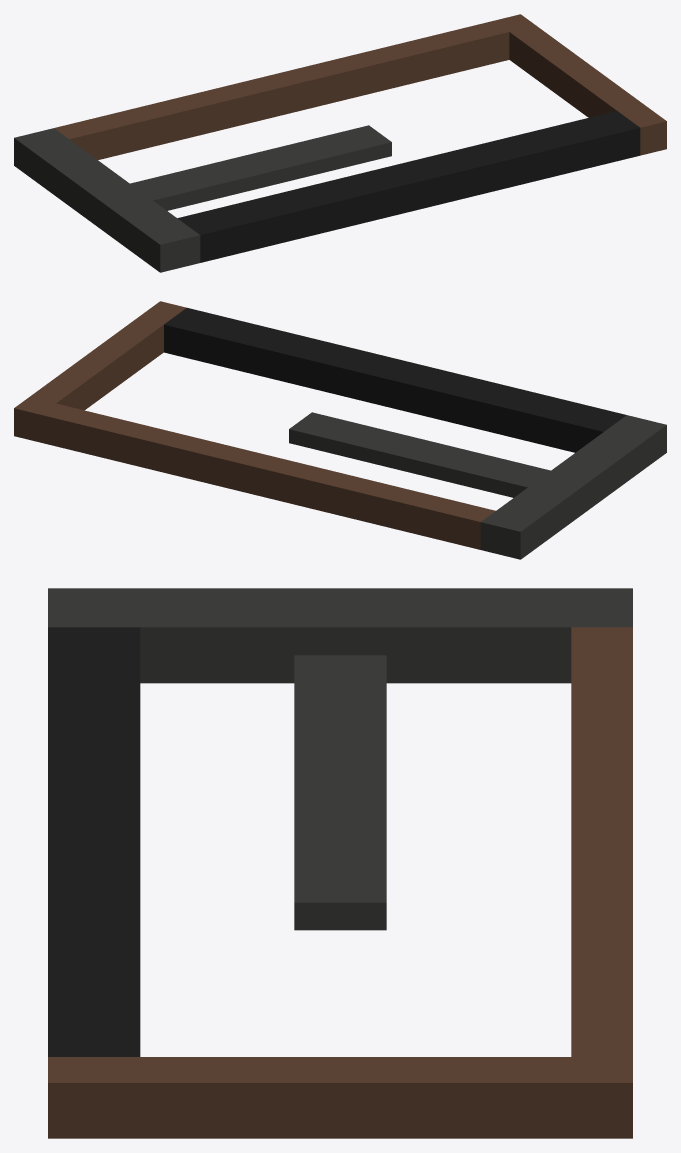
The model's file is burnt_out_bus_fallen_door.glb.
3 views of the same model, one above another, from view 1: azimuth 30°, elevation 25°; view 2: azimuth 150°, elevation 25°; view 3: azimuth 270°, elevation 25° (orthographic). The views are drawn at different scales.
Parts seen in each view (by area): view 1: body:compound; view 2: body:compound; view 3: body:compound.
Boxes of the visible parts, bbox=[...] form: body:compound: bbox=[14, 14, 666, 272]; body:compound: bbox=[14, 301, 666, 559]; body:compound: bbox=[48, 588, 632, 1138].
Bounding box in the file's own units: 1.19 × 0.0625 × 0.5938.
